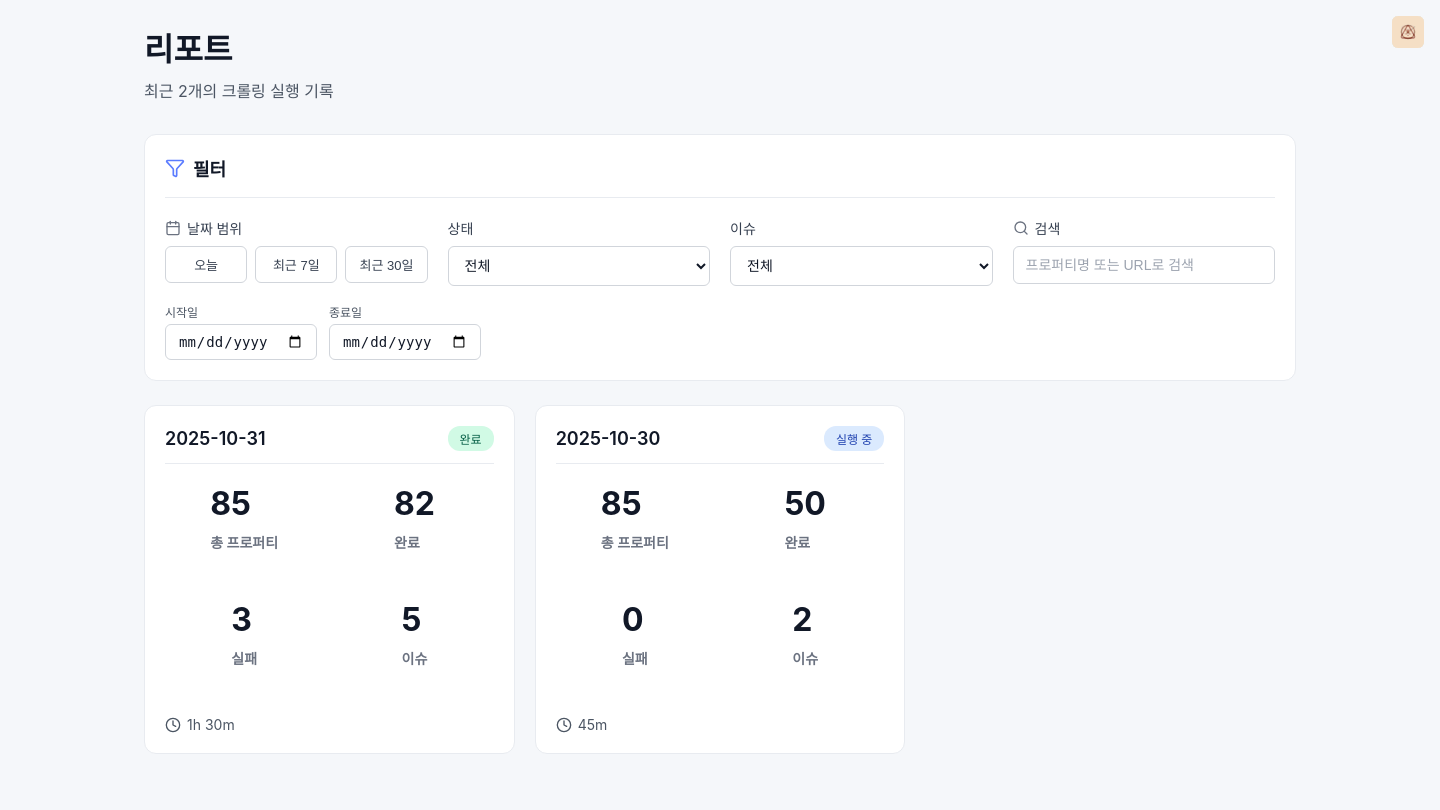
Scenario: Reports Page - Task 1 › Task 2: Run Results Display › should show error state when fetching results fails
The image size is (1440, 810).
expect the heading "2025-10-31" is shown: met, box [165, 428, 266, 449]
Click the button "2025-10-31" at {"x": 329, "y": 445}, box [144, 405, 515, 754]
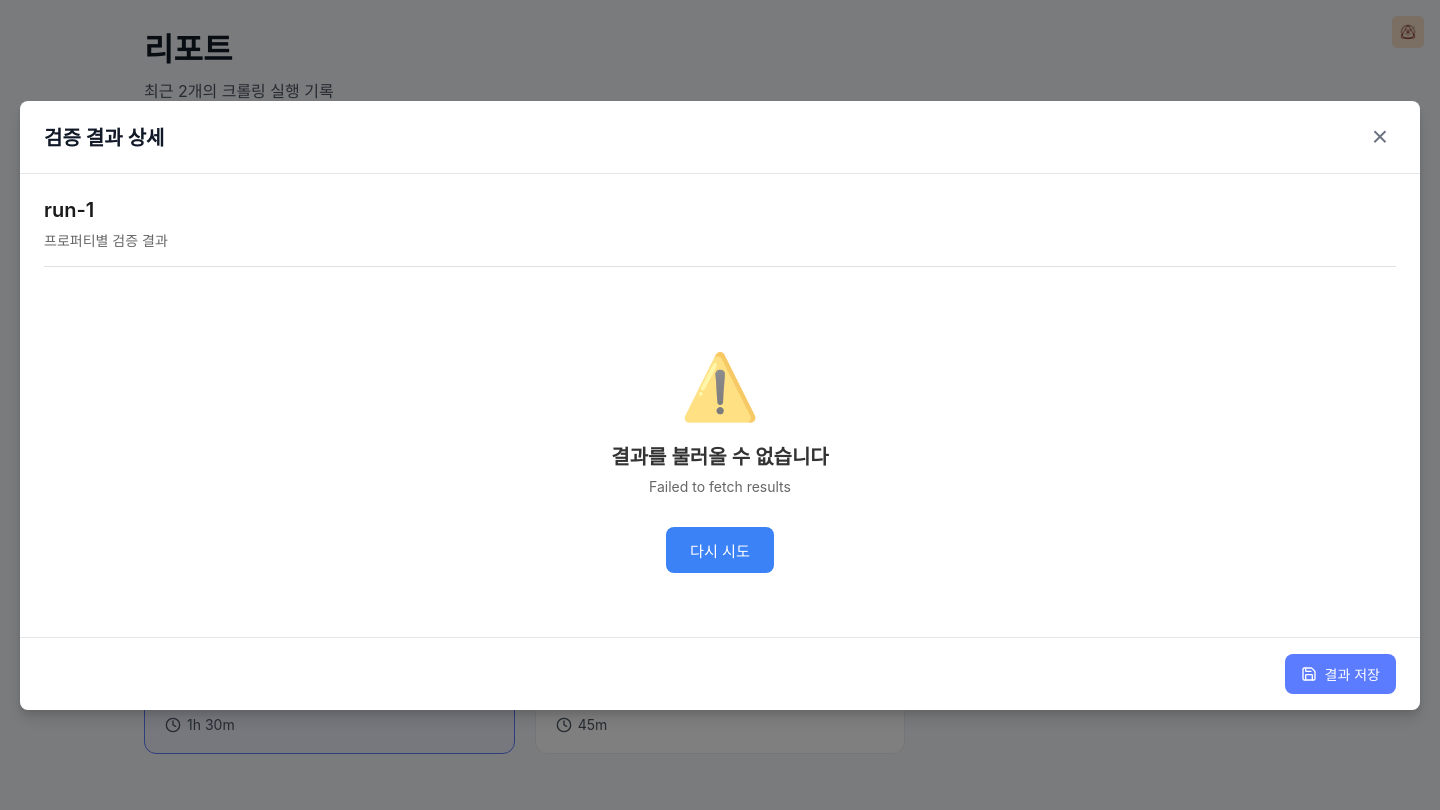
expect the heading "결과를 불러올 수 없습니다" is shown: met, box [611, 440, 829, 470]
